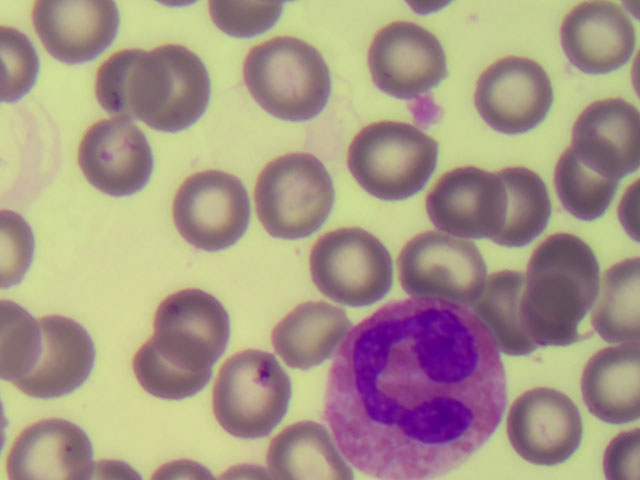Platelets: (410, 91, 447, 128)
RBC: (73, 124, 157, 200), (555, 98, 640, 173), (555, 347, 640, 422), (83, 43, 167, 118), (134, 45, 218, 120), (171, 176, 255, 251), (251, 162, 335, 237), (247, 43, 331, 118), (358, 19, 442, 94), (470, 51, 554, 126), (551, 6, 635, 81), (540, 147, 624, 222), (475, 169, 559, 244), (415, 157, 499, 232), (350, 123, 434, 198), (307, 225, 391, 300), (393, 225, 477, 300), (515, 231, 599, 306), (515, 279, 599, 354), (481, 272, 565, 347), (508, 388, 592, 463), (214, 354, 298, 429), (270, 293, 354, 368), (155, 285, 239, 360), (131, 328, 215, 403), (19, 320, 103, 395), (16, 316, 100, 391), (32, 1, 116, 75)
WBC: (320, 300, 505, 480)
